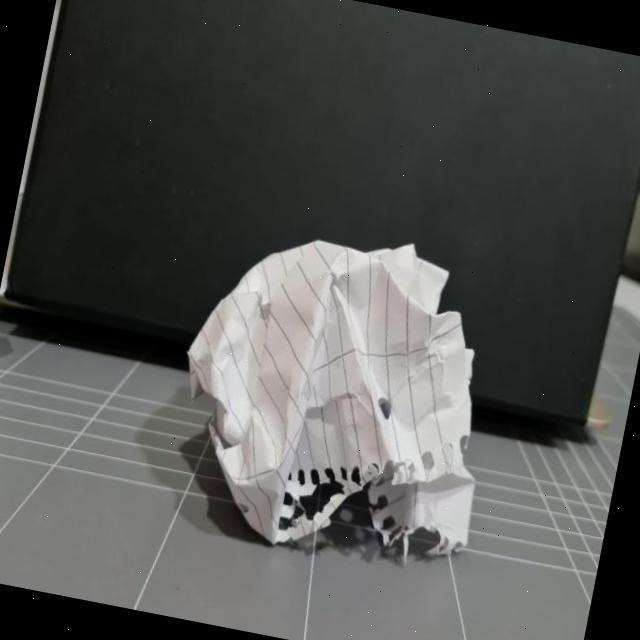trash: (164, 206, 526, 576)
